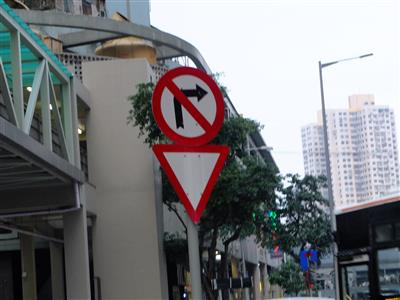noRightTurn: (151, 65, 226, 148)
yield: (150, 141, 228, 224)
